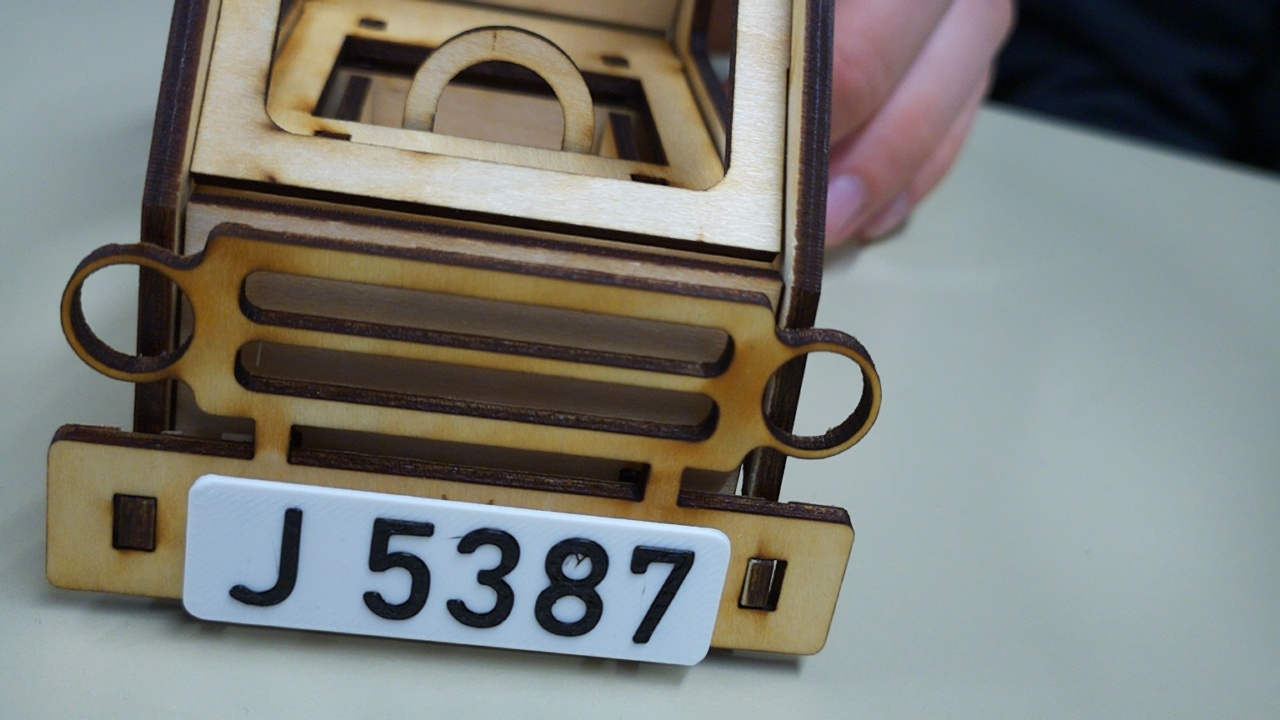license_plate: (179, 468, 735, 672)
